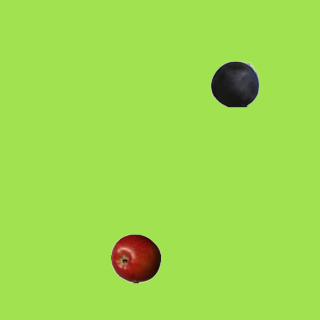Apple Braeburn: (110, 233, 160, 283)
Grape Blue: (209, 58, 259, 108)
